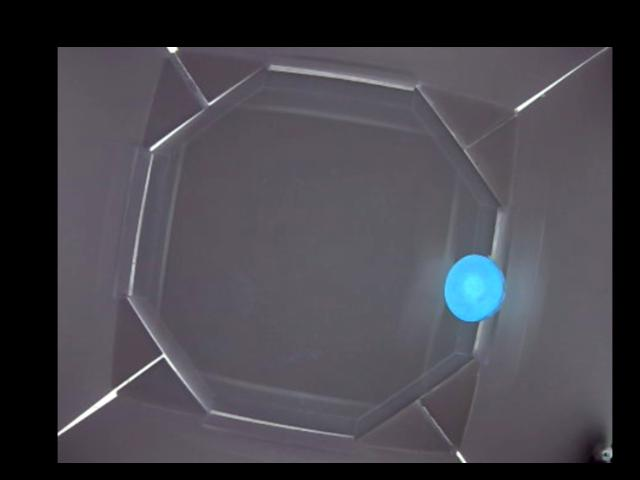Carrot: (442, 254, 504, 320)
